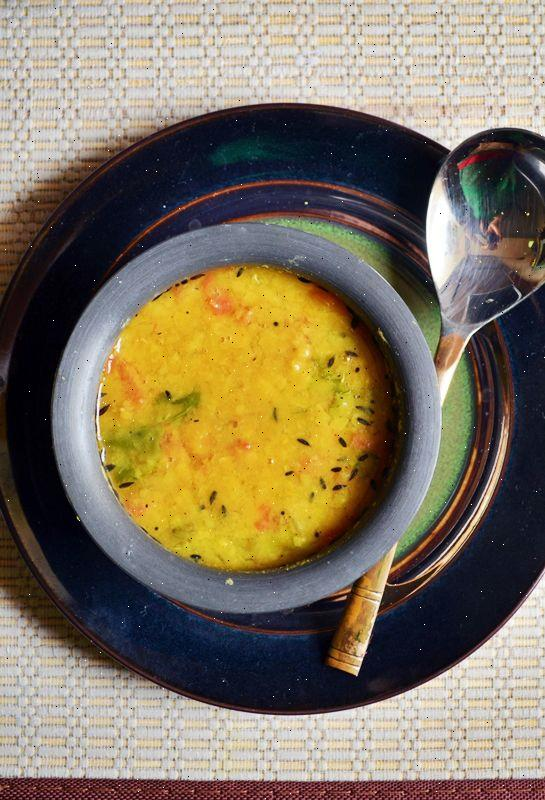daal: (100, 273, 407, 576)
